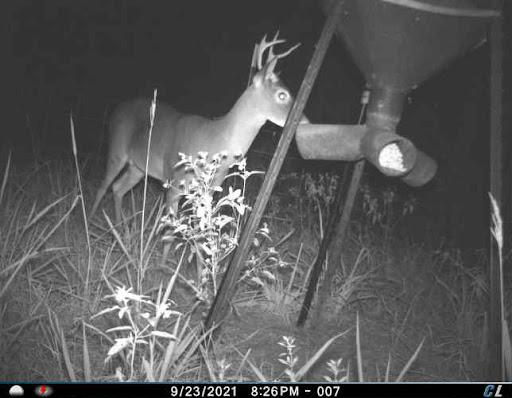Deer: (99, 22, 310, 294)
